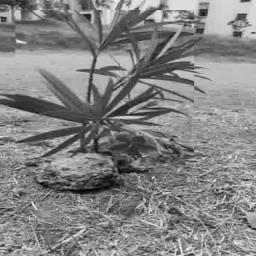OLEANDER: (16, 10, 196, 158)
